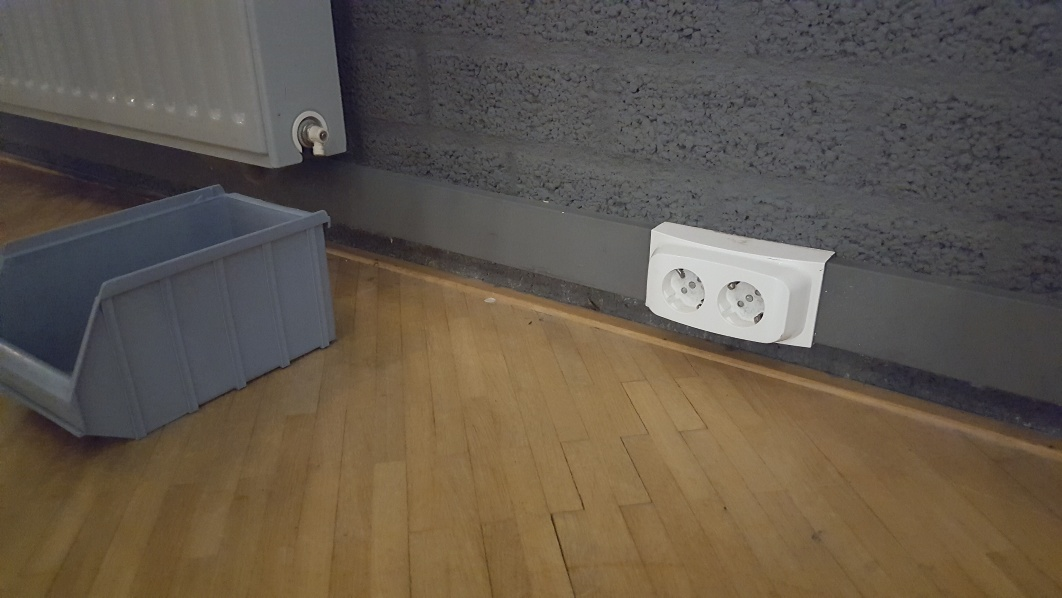tray: (2, 182, 340, 441)
